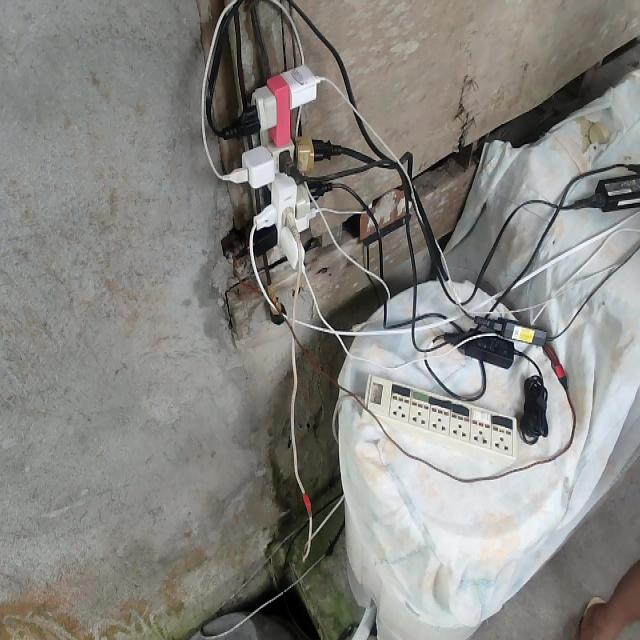-: (187, 34, 354, 294)
